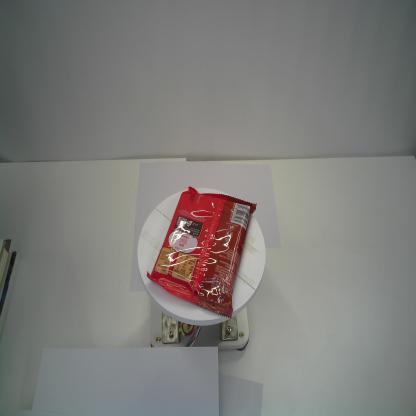Dessert: (146, 185, 257, 321)
